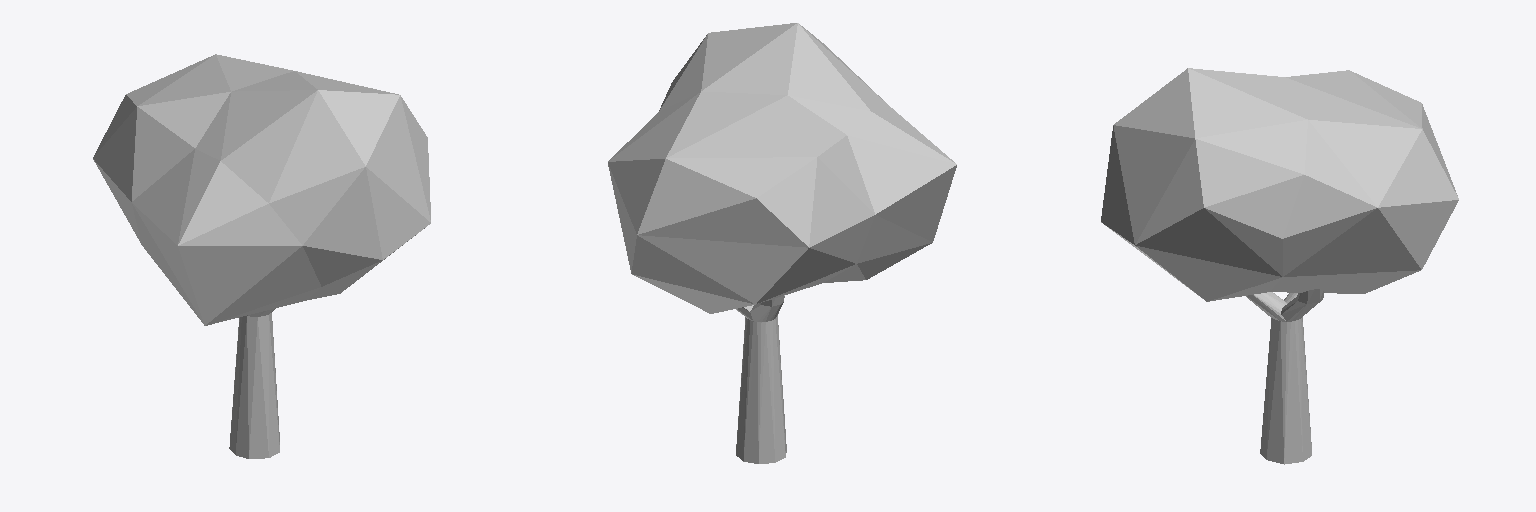
Rendered from Tree1.obj.
3 views of the same model, side by side, from view 1: azimuth 30°, elevation 25°; view 2: azimuth 150°, elevation 25°; view 3: azimuth 270°, elevation 25° (orthographic).
Parts seen in each view (by area): view 1: Top_Icosphere, Bottom_Cylinder.002; view 2: Top_Icosphere, Bottom_Cylinder.002; view 3: Top_Icosphere, Bottom_Cylinder.002.
Part boxes in pixels (x1,y1,x2,y2): Top_Icosphere: (93, 54, 430, 325); Bottom_Cylinder.002: (229, 308, 279, 458); Top_Icosphere: (608, 23, 956, 313); Bottom_Cylinder.002: (736, 295, 786, 463); Top_Icosphere: (1101, 68, 1458, 301); Bottom_Cylinder.002: (1246, 289, 1324, 464).
Bounding box in the file's own units: 11.94 × 16.68 × 13.85.